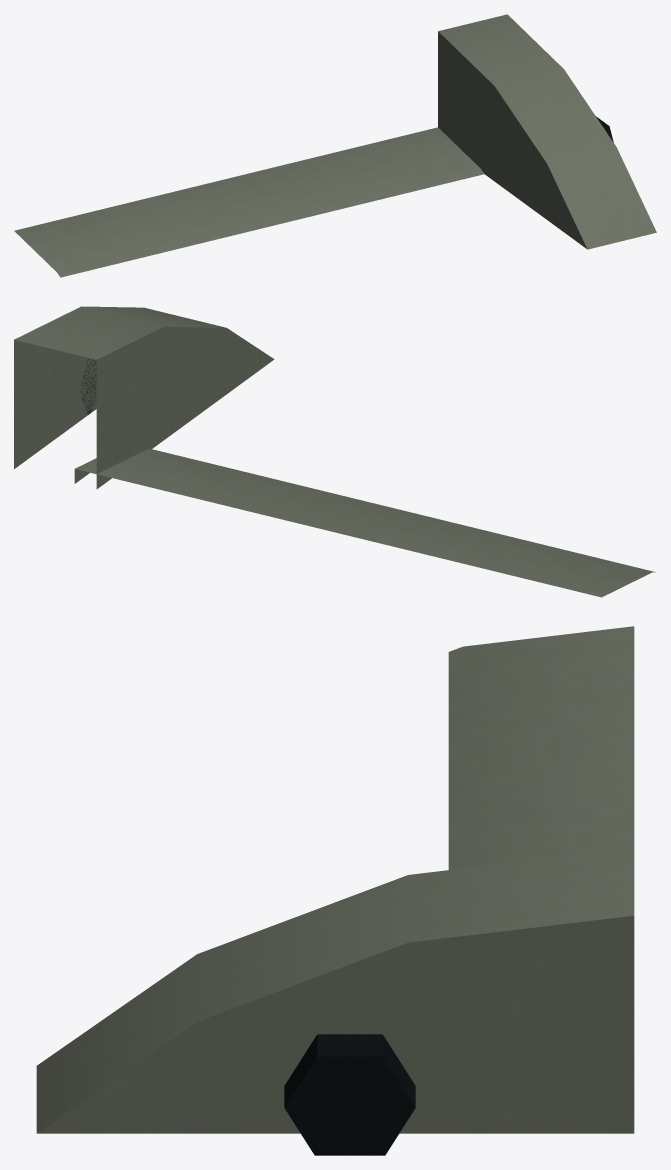
Rendered from cell_15.obj.
3 views of the same model, one above another, from view 1: azimuth 30°, elevation 25°; view 2: azimuth 150°, elevation 25°; view 3: azimuth 270°, elevation 25° (orthographic). The views are drawn at different scales.
Visible parts, largest first — view 1: cell_15; view 2: cell_15; view 3: cell_15.
Boxes of the visible parts, <box> form: cell_15: <box>14,14,656,277</box>; cell_15: <box>14,306,655,597</box>; cell_15: <box>36,626,634,1155</box>.
Size of the model in its own units: 0.523 by 0.1055 by 0.2623.
